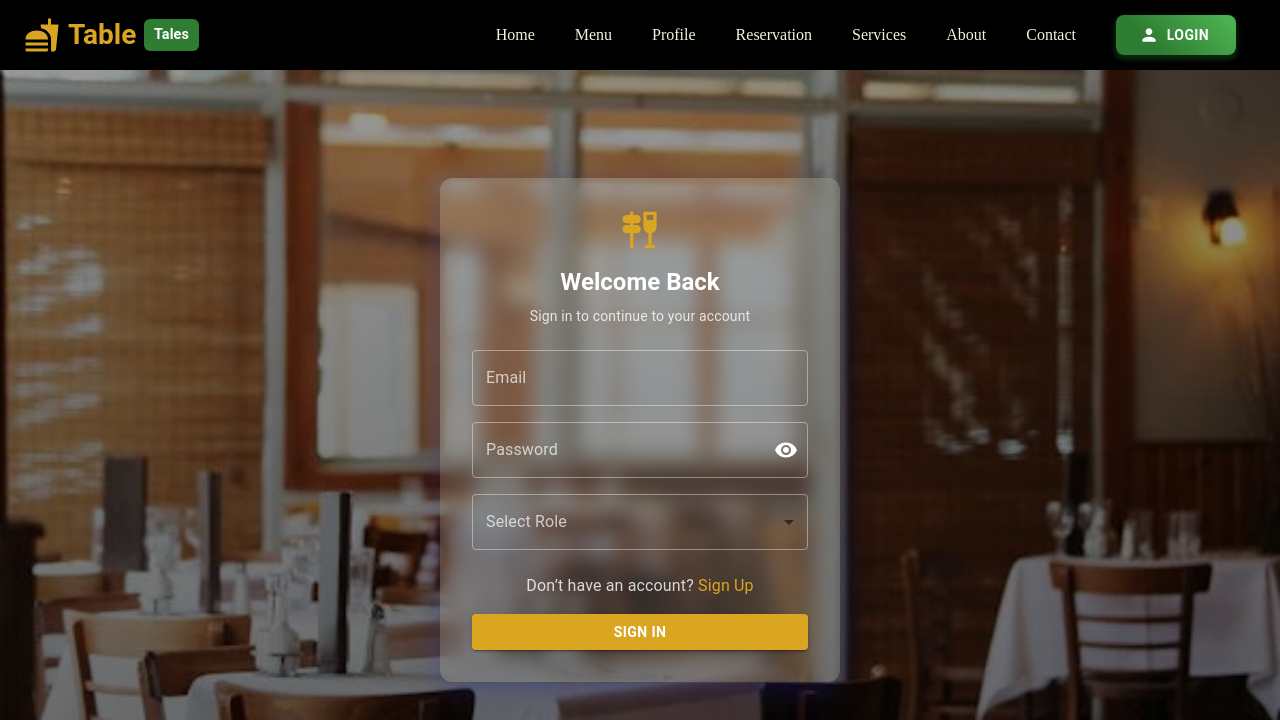
Test case: Signin Page Tests › should show error when role is missing
This screenshot has width=1280, height=720.
In the field with test id "email-input": [640, 378] box [472,350,808,406], type "test@example.com"
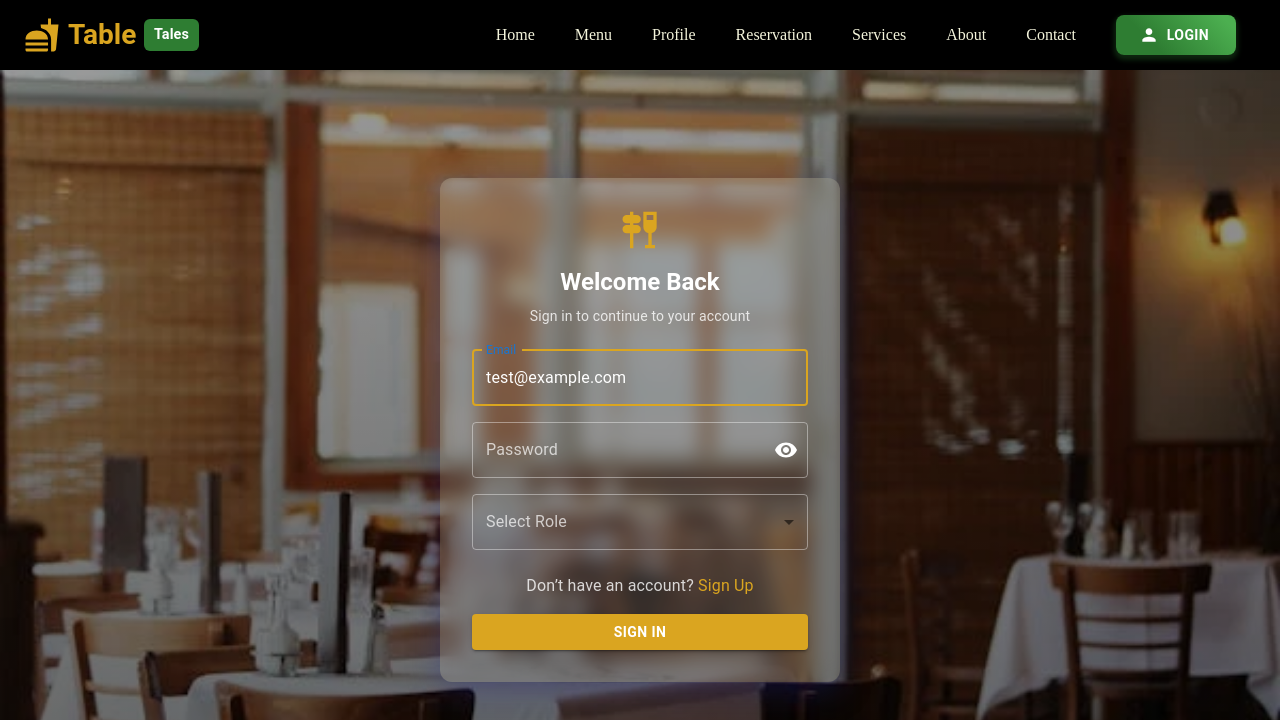
In the element with test id "password-input": [640, 450] box [472,422,808,478], type "password123"
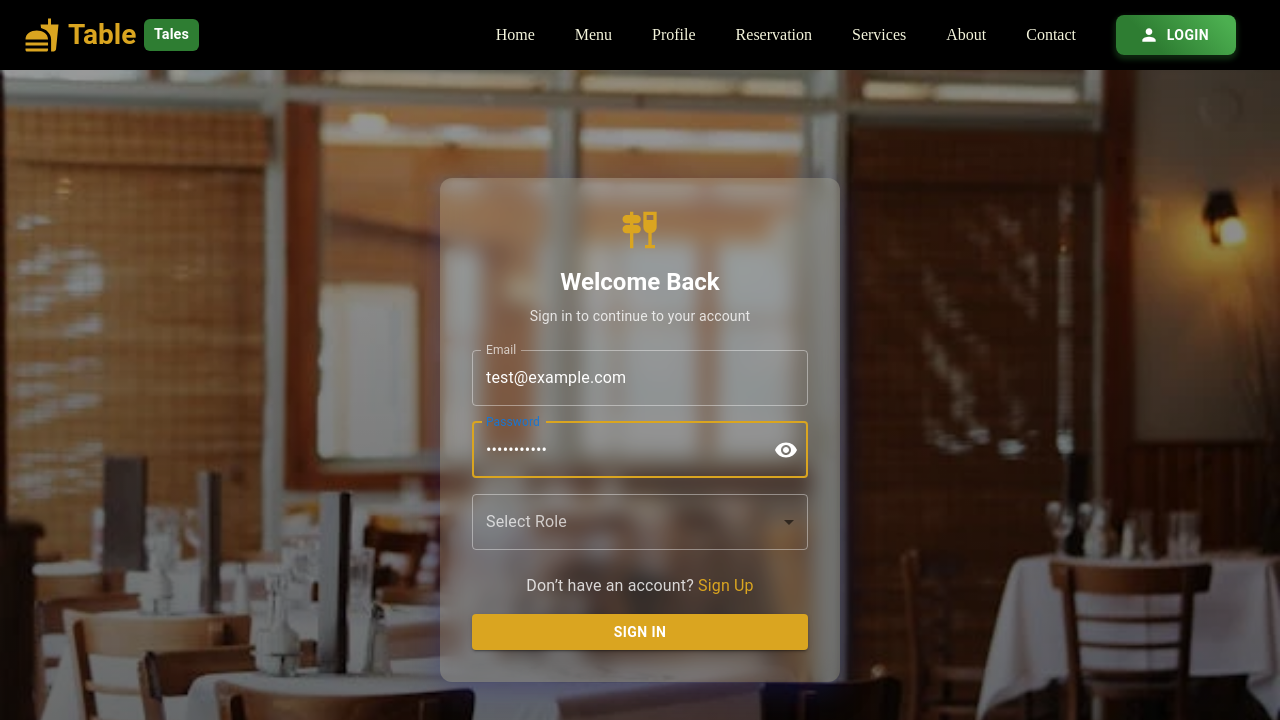
Click the button with test id "signin-button": [640, 633] box [472,614,808,651]
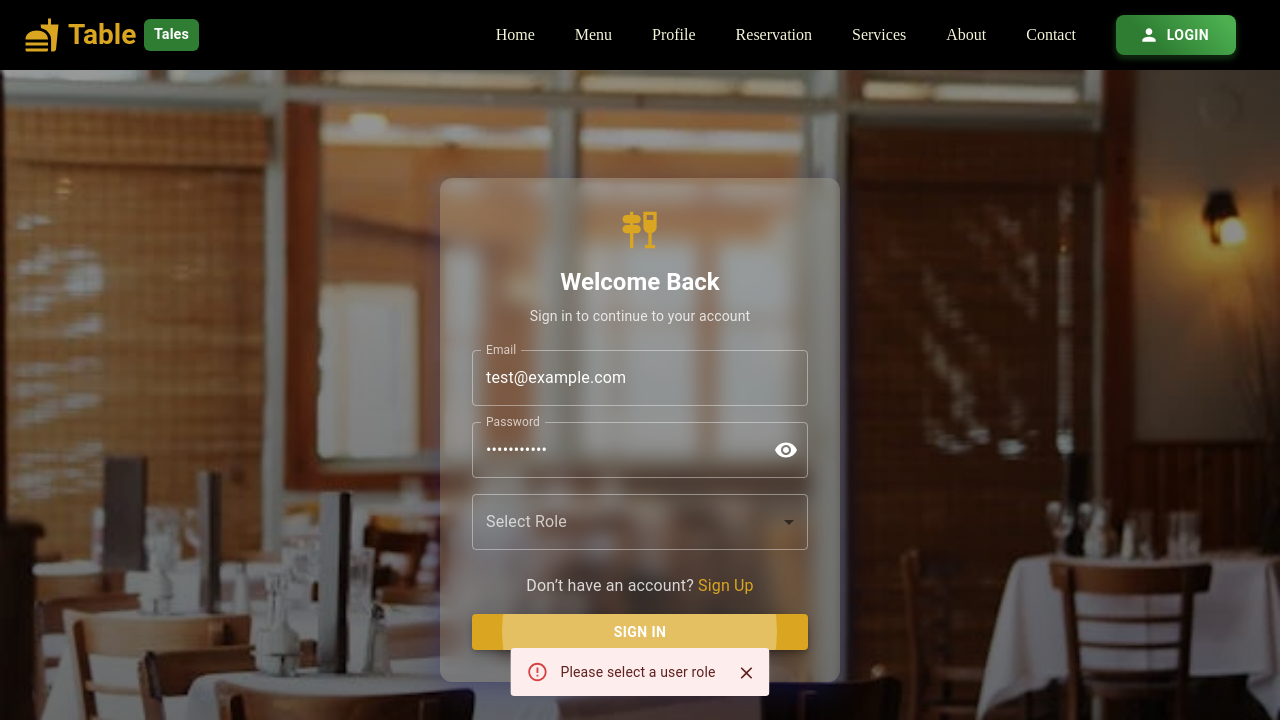
Expected: the text "Please select a user role" is shown, [560,664,716,680]
